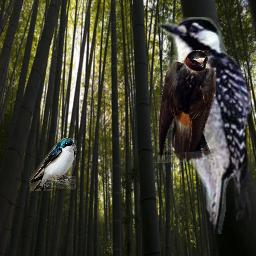Swallow: (157, 50, 216, 163), (29, 138, 76, 191)
Woodpecker: (157, 17, 251, 234)
